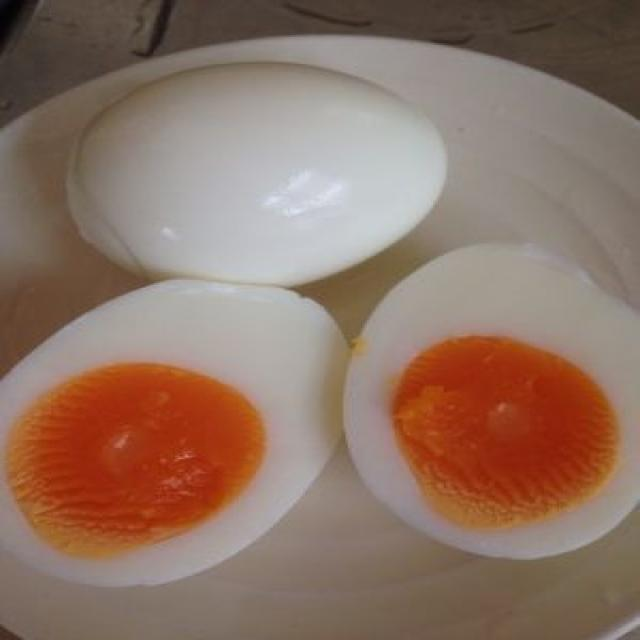egg boiled: (0, 280, 347, 585), (346, 245, 639, 558), (69, 63, 445, 286)
